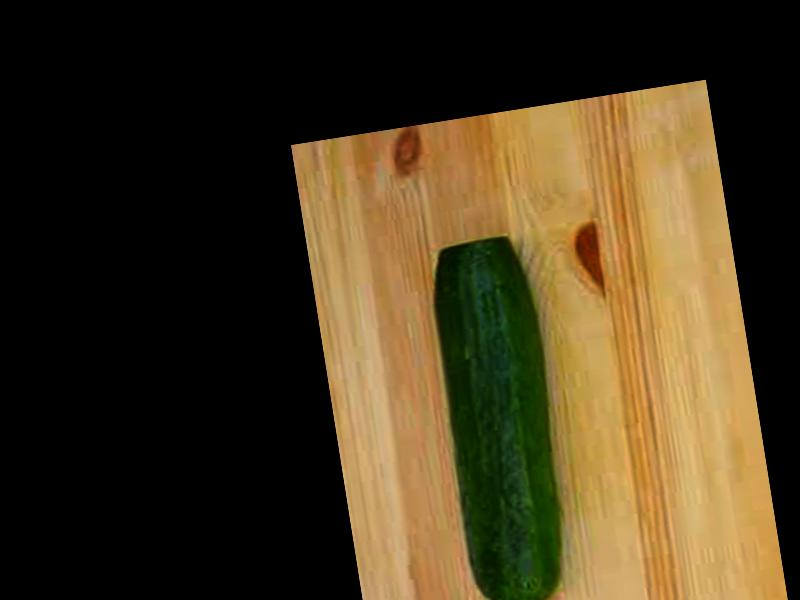Cucumber: (421, 235, 578, 600)
